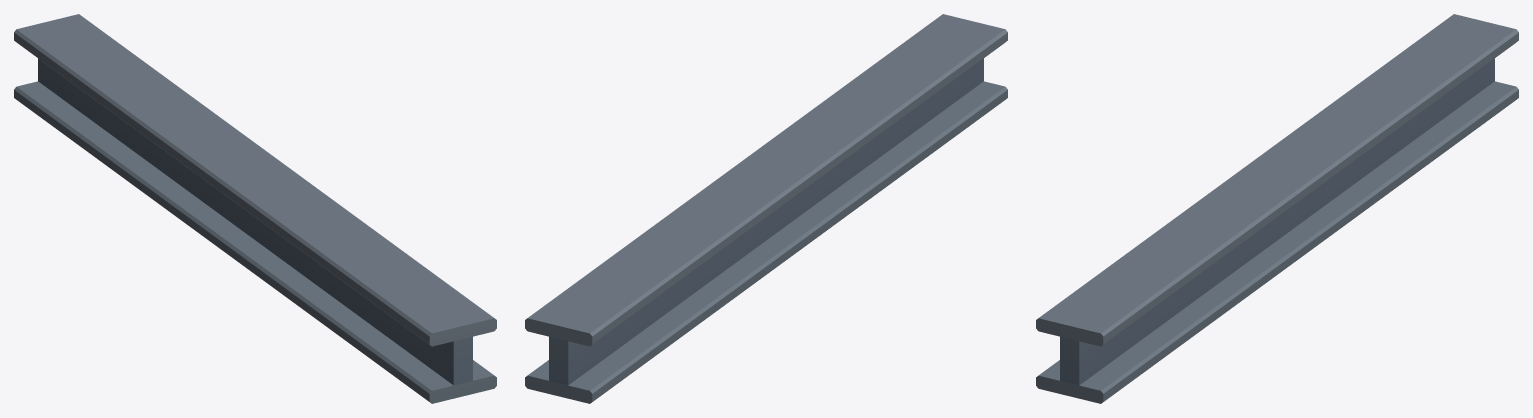
Rendered from Rail_C_1_4.fbx.
3 renders of one model, left to right at view 1: azimuth 30°, elevation 25°; view 2: azimuth 150°, elevation 25°; view 3: azimuth 330°, elevation 25°, orthographic.
Parts seen in each view (by area): view 1: Rail_C_1_4; view 2: Rail_C_1_4; view 3: Rail_C_1_4.
Part boxes in pixels (x1,y1,x2,y2): Rail_C_1_4: (14, 14, 496, 403); Rail_C_1_4: (525, 14, 1007, 403); Rail_C_1_4: (1036, 14, 1518, 403).
Size of the model in its own units: 37.43 by 37.43 by 400.
